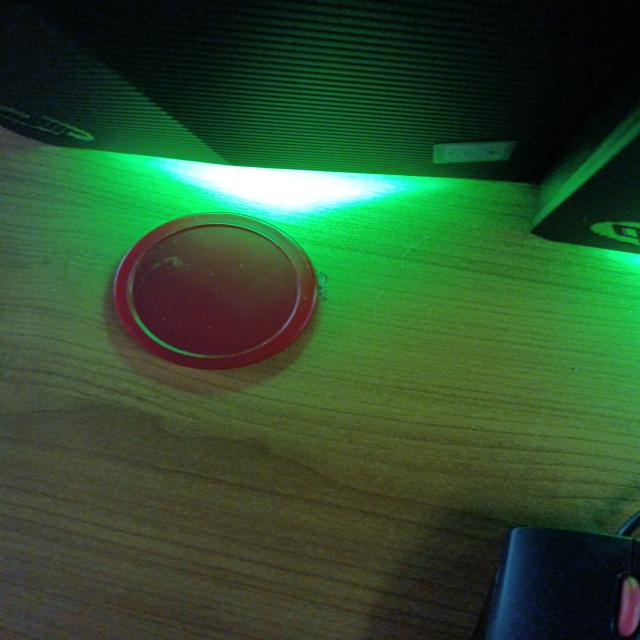chip: (114, 212, 320, 368)
